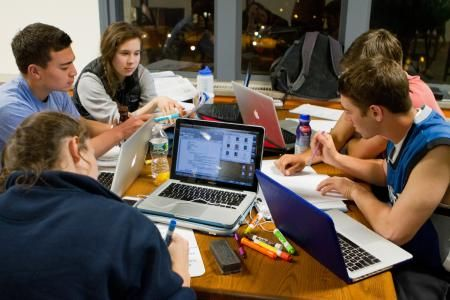Person: (2, 122, 189, 291), (328, 66, 445, 234), (87, 22, 165, 119), (4, 29, 85, 105)
